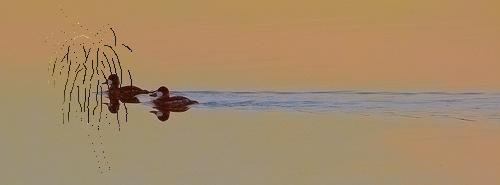tampered: (46, 6, 132, 174)
